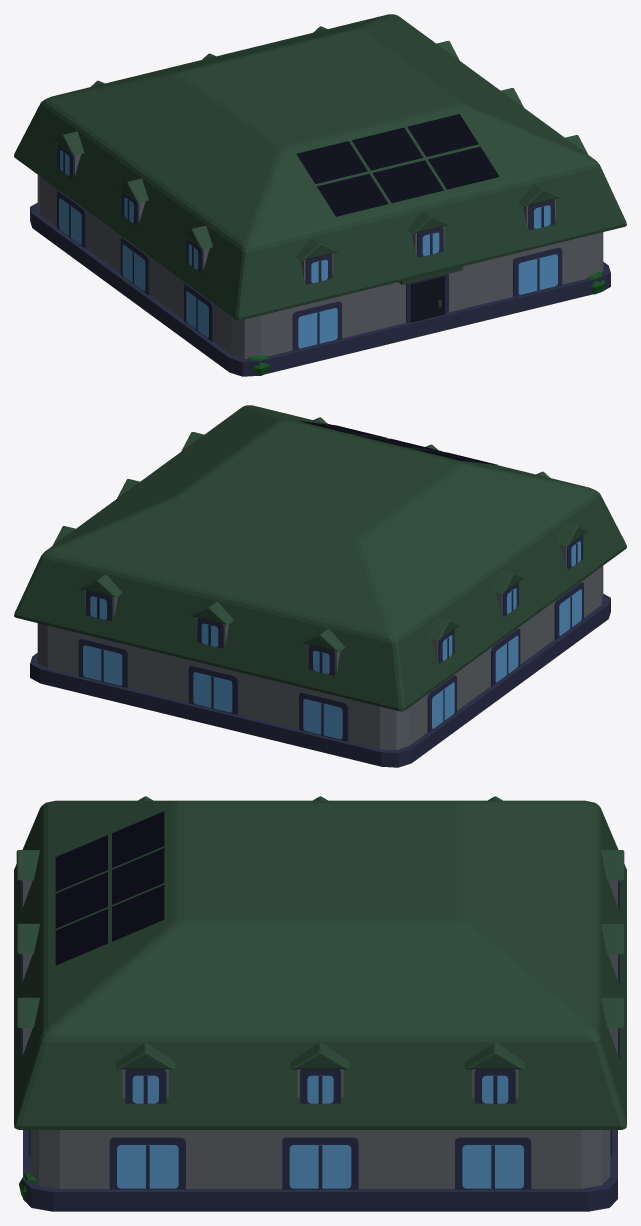
Rendered from house-2x2-1f-mansard-d-solar.glb.
3 views of the same model, one above another, from view 1: azimuth 30°, elevation 25°; view 2: azimuth 150°, elevation 25°; view 3: azimuth 270°, elevation 25° (orthographic). The views are drawn at different scales.
Visible parts, largest first — view 1: house-2x2-1f-mansard-d-solar; view 2: house-2x2-1f-mansard-d-solar; view 3: house-2x2-1f-mansard-d-solar.
Part boxes in pixels (left/top/right/bottom): house-2x2-1f-mansard-d-solar: left=14, top=14, right=626, bottom=376; house-2x2-1f-mansard-d-solar: left=14, top=405, right=626, bottom=767; house-2x2-1f-mansard-d-solar: left=14, top=796, right=626, bottom=1211.
Size of the model in its own units: 1.99 by 0.8052 by 1.99.
Materials: 1 (1 with a texture image).
